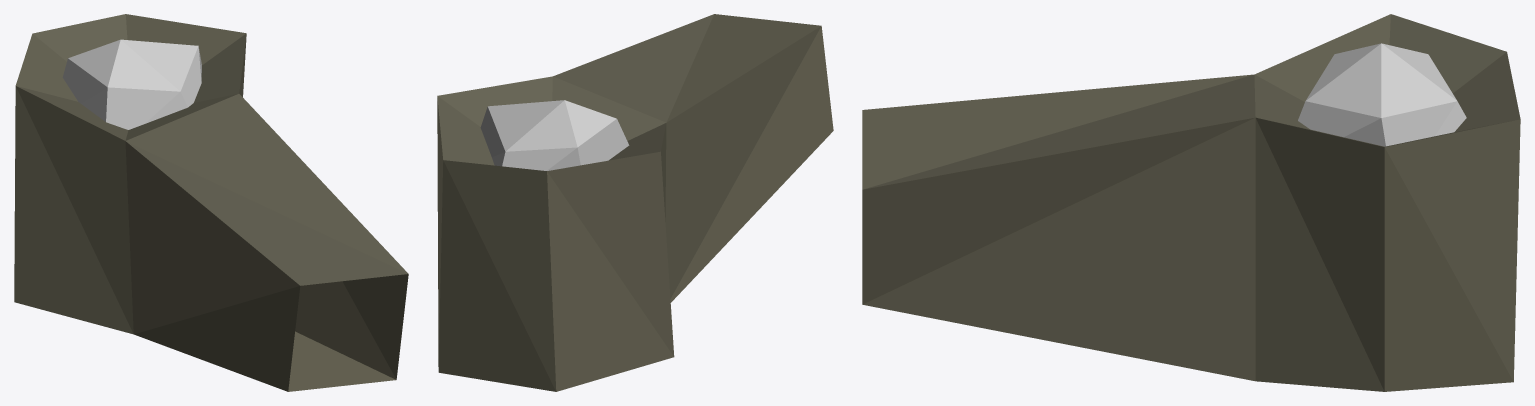
Rendered from FIREPLACE_NCSTONE.OBJ.
The picture shows the model from 3 angles, left to right: view 1: azimuth 30°, elevation 25°; view 2: azimuth 150°, elevation 25°; view 3: azimuth 270°, elevation 25°; orthographic projection. The views are drawn at different scales.
Visible parts, largest first — view 1: FIREPLACE_NCSTONE; view 2: FIREPLACE_NCSTONE; view 3: FIREPLACE_NCSTONE.
Boxes of the visible parts, x1=… form: FIREPLACE_NCSTONE: x1=14, y1=14, x2=408, y2=391; FIREPLACE_NCSTONE: x1=437, y1=14, x2=833, y2=391; FIREPLACE_NCSTONE: x1=862, y1=14, x2=1520, y2=391.
Size of the model in its own units: 0.475 by 0.4845 by 0.9711.
